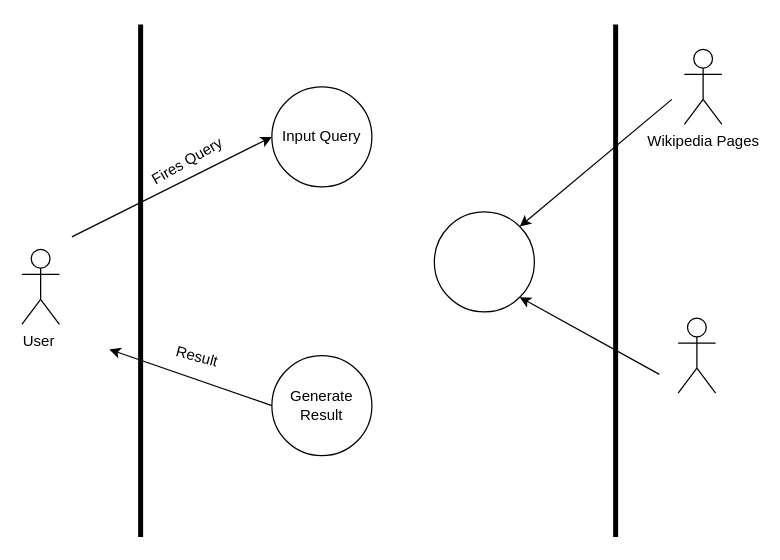
Some shapes in this 780 by 560 pixel diagram are drawn without their labels. The shapes that lost their labels are listed below. From the top down, each one's centre as x and y in pixels, then its label:
At pixel 483 261: "Preprocess".
At pixel 696 355: "Knowledge Base".
